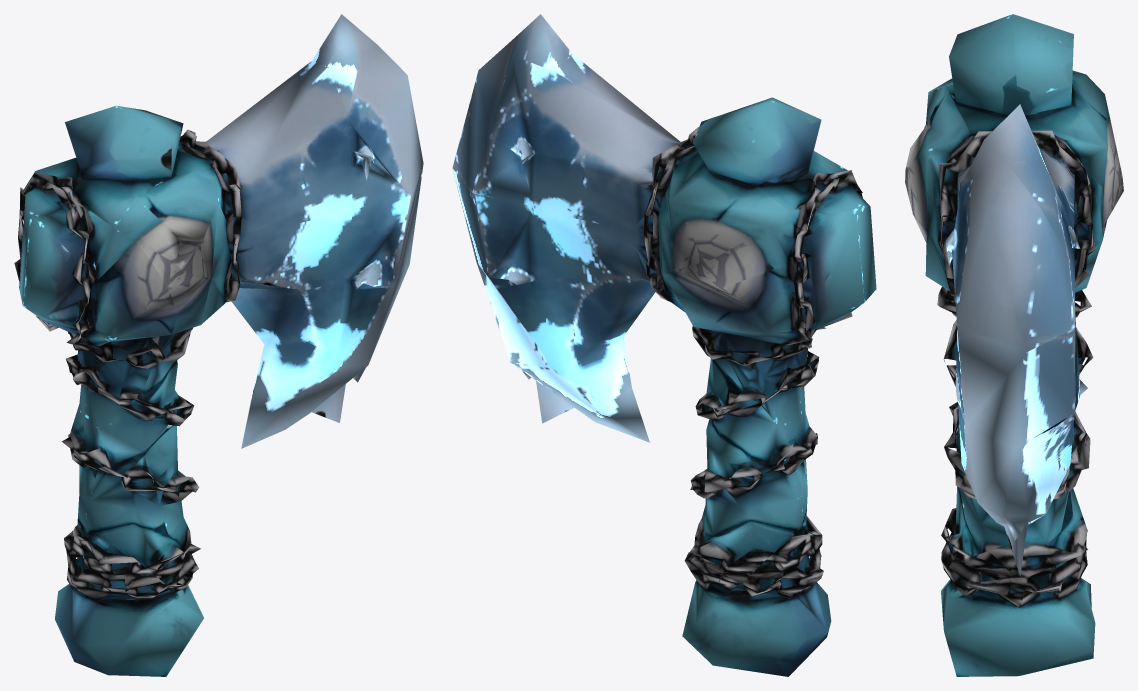
The model's file is UqWarden_Axe-ldzaMRdt.glb.
3 renders of one model, left to right at view 1: azimuth 30°, elevation 25°; view 2: azimuth 150°, elevation 25°; view 3: azimuth 270°, elevation 25°, orthographic. The views are drawn at different scales.
Visible parts, largest first — view 1: tripo_node_c7e86086-d53d-4829-848c-94c0a5dbf7b6; view 2: tripo_node_c7e86086-d53d-4829-848c-94c0a5dbf7b6; view 3: tripo_node_c7e86086-d53d-4829-848c-94c0a5dbf7b6.
Part boxes in pixels (box(x1,y1,x2,y2)): tripo_node_c7e86086-d53d-4829-848c-94c0a5dbf7b6: box(14, 14, 423, 676); tripo_node_c7e86086-d53d-4829-848c-94c0a5dbf7b6: box(452, 14, 876, 676); tripo_node_c7e86086-d53d-4829-848c-94c0a5dbf7b6: box(905, 14, 1123, 676).
Size of the model in its own units: 1.35 by 1.89 by 0.5452.
1 material, 1 textured.
